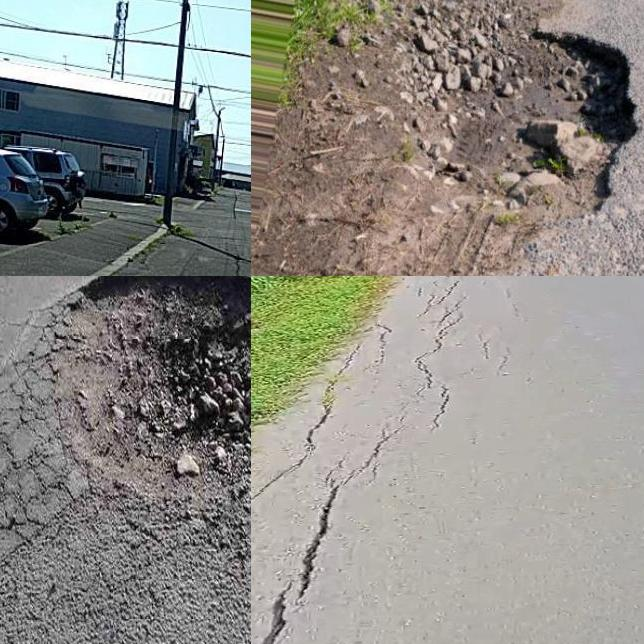Lubang: (52, 276, 251, 492)
Memanjang: (251, 412, 419, 644)
Pinggir: (442, 17, 644, 276), (251, 277, 410, 510)
